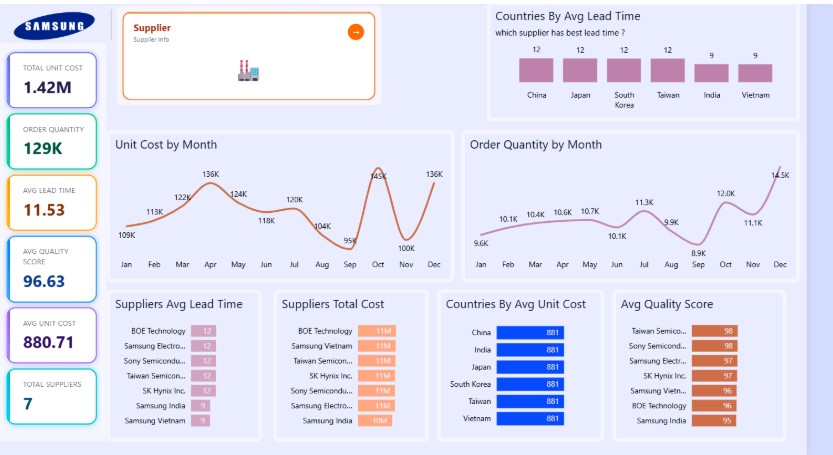

This screenshot's page, from the dashboard's own definition file:
{"tool":"powerbi","page":{"name":"Supplier","canvas":[1280,720],"ordinal":2},"visuals":[{"type":"shape","box":[171.4,7.2,17.3,57.6],"z":0},{"type":"image","box":[0,0,180,85],"z":1000},{"type":"clusteredBarChart","title":"Suppliers Avg Lead Time","fields":{"Y":["Measures Table.Avg_Lead_Time"],"Category":["dim_supplier.supplier_name"]},"box":[172.8,455,246.2,240.5],"z":8000},{"type":"clusteredBarChart","title":"Suppliers Total Cost","fields":{"Category":["dim_supplier.supplier_name"],"Y":["Sum(fact_procurement.total_cost)"]},"box":[436.3,455,246.2,240.5],"z":9000},{"type":"clusteredBarChart","title":"Countries By  Avg Unit Cost","fields":{"Y":["Measures Table.Avg unit cost"],"Category":["dim_supplier.country"]},"box":[695.5,455,263.5,240.5],"z":10000},{"type":"lineChart","title":"Unit Cost by Month","fields":{"Y":["Measures Table.total_Unit_Cost"],"Category":["dim_date.month_short"]},"box":[172.8,203,550.1,240.5],"z":11000},{"type":"lineChart","title":"Order Quantity by Month","fields":{"Y":["Measures Table.Order_Qty"],"Category":["dim_date.month_short"]},"box":[734.4,203,535.7,240.5],"z":12000},{"type":"clusteredBarChart","title":"Avg Quality Score","fields":{"Y":["Measures Table.avg_quality_scare"],"Category":["dim_supplier.supplier_name"]},"box":[973.4,455,275,240.5],"z":13000},{"type":"clusteredColumnChart","title":"Countries By  Avg Lead Time","fields":{"Category":["dim_supplier.country"],"Y":["Measures Table.Avg_Lead_Time"]},"box":[826.8,14.1,442.7,189.1],"z":14000},{"type":"htmlContent443BE3AD55E043BF878BED274D3A6855","fields":{"content":["Measures Table.HTML_Border_Nav_Supplier"]},"box":[188.4,6.9,418.2,157.4],"z":15000},{"type":"htmlContent443BE3AD55E043BF878BED274D3A6855","fields":{"content":["Measures Table.HTML_supplierBorder_KPI_Panel"]},"box":[0,90.4,172.6,629.5],"z":16000},{"type":"slicer","fields":{"Values":["dim_product.product_name"]},"box":[616.6,14.1,210.2,95.1],"z":16001}]}

Visuals, with their boxes in screenshot pixels (x1, y1, x2, y2), scaled from the page's 1280x720 canvas onto the 833x455 screenshot:
shape: region(112, 5, 123, 41)
image: region(0, 0, 117, 54)
"Suppliers Avg Lead Time" clusteredBarChart: region(112, 288, 273, 440)
"Suppliers Total Cost" clusteredBarChart: region(284, 288, 444, 440)
"Countries By  Avg Unit Cost" clusteredBarChart: region(453, 288, 624, 440)
"Unit Cost by Month" lineChart: region(112, 128, 470, 280)
"Order Quantity by Month" lineChart: region(478, 128, 827, 280)
"Avg Quality Score" clusteredBarChart: region(633, 288, 812, 440)
"Countries By  Avg Lead Time" clusteredColumnChart: region(538, 9, 826, 128)
htmlContent443BE3AD55E043BF878BED274D3A6855 - Measures Table.HTML_Border_Nav_Supplier: region(123, 4, 395, 104)
htmlContent443BE3AD55E043BF878BED274D3A6855 - Measures Table.HTML_supplierBorder_KPI_Panel: region(0, 57, 112, 454)
slicer - dim_product.product_name: region(401, 9, 538, 69)
